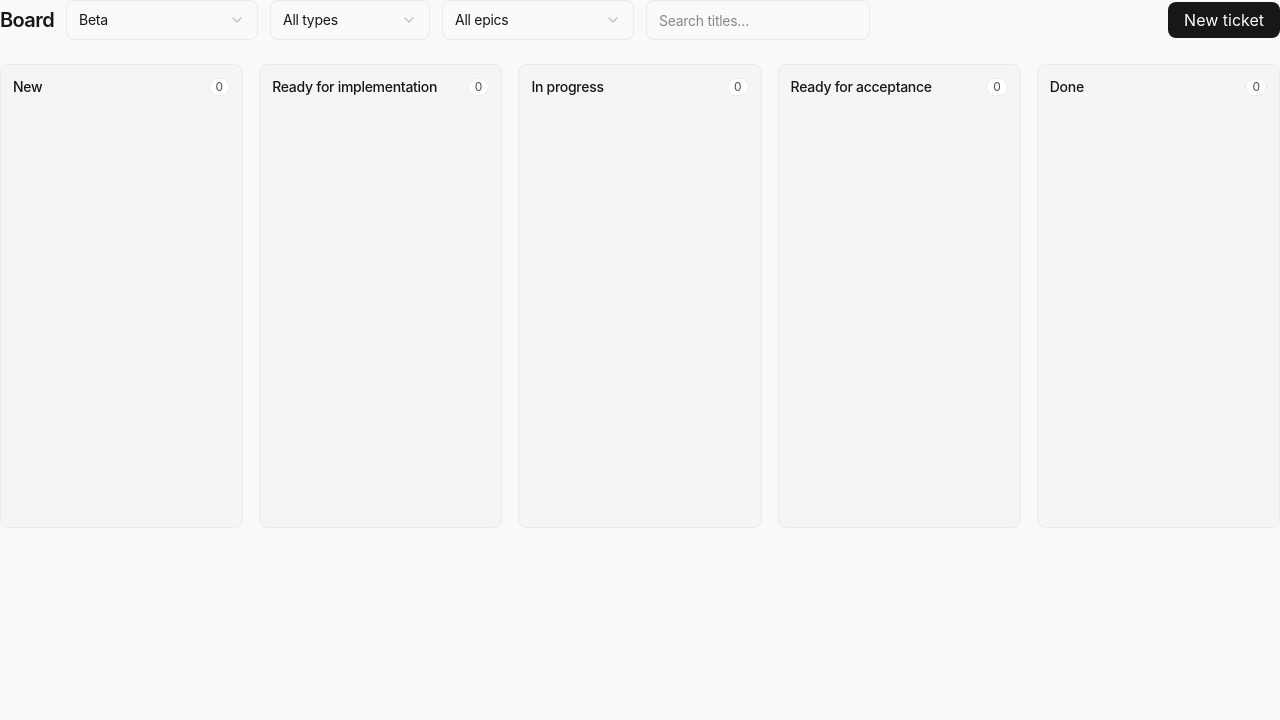
Test case: BoardPage › create_shouldOpenDialogPresetToSelectedTeam
Click the button "New ticket" at (1224, 20), box [1168,2,1279,38]
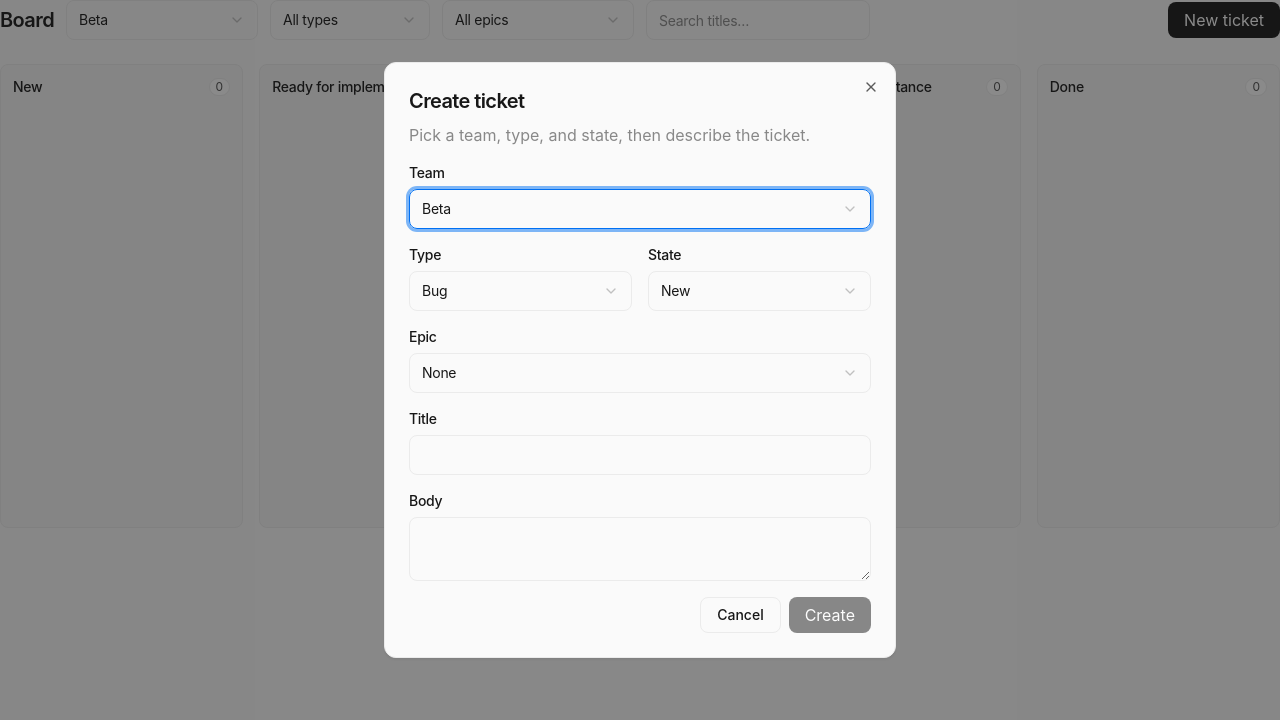
Check: the dropdown named "Team" reads "Beta", box [409,189,871,229]
